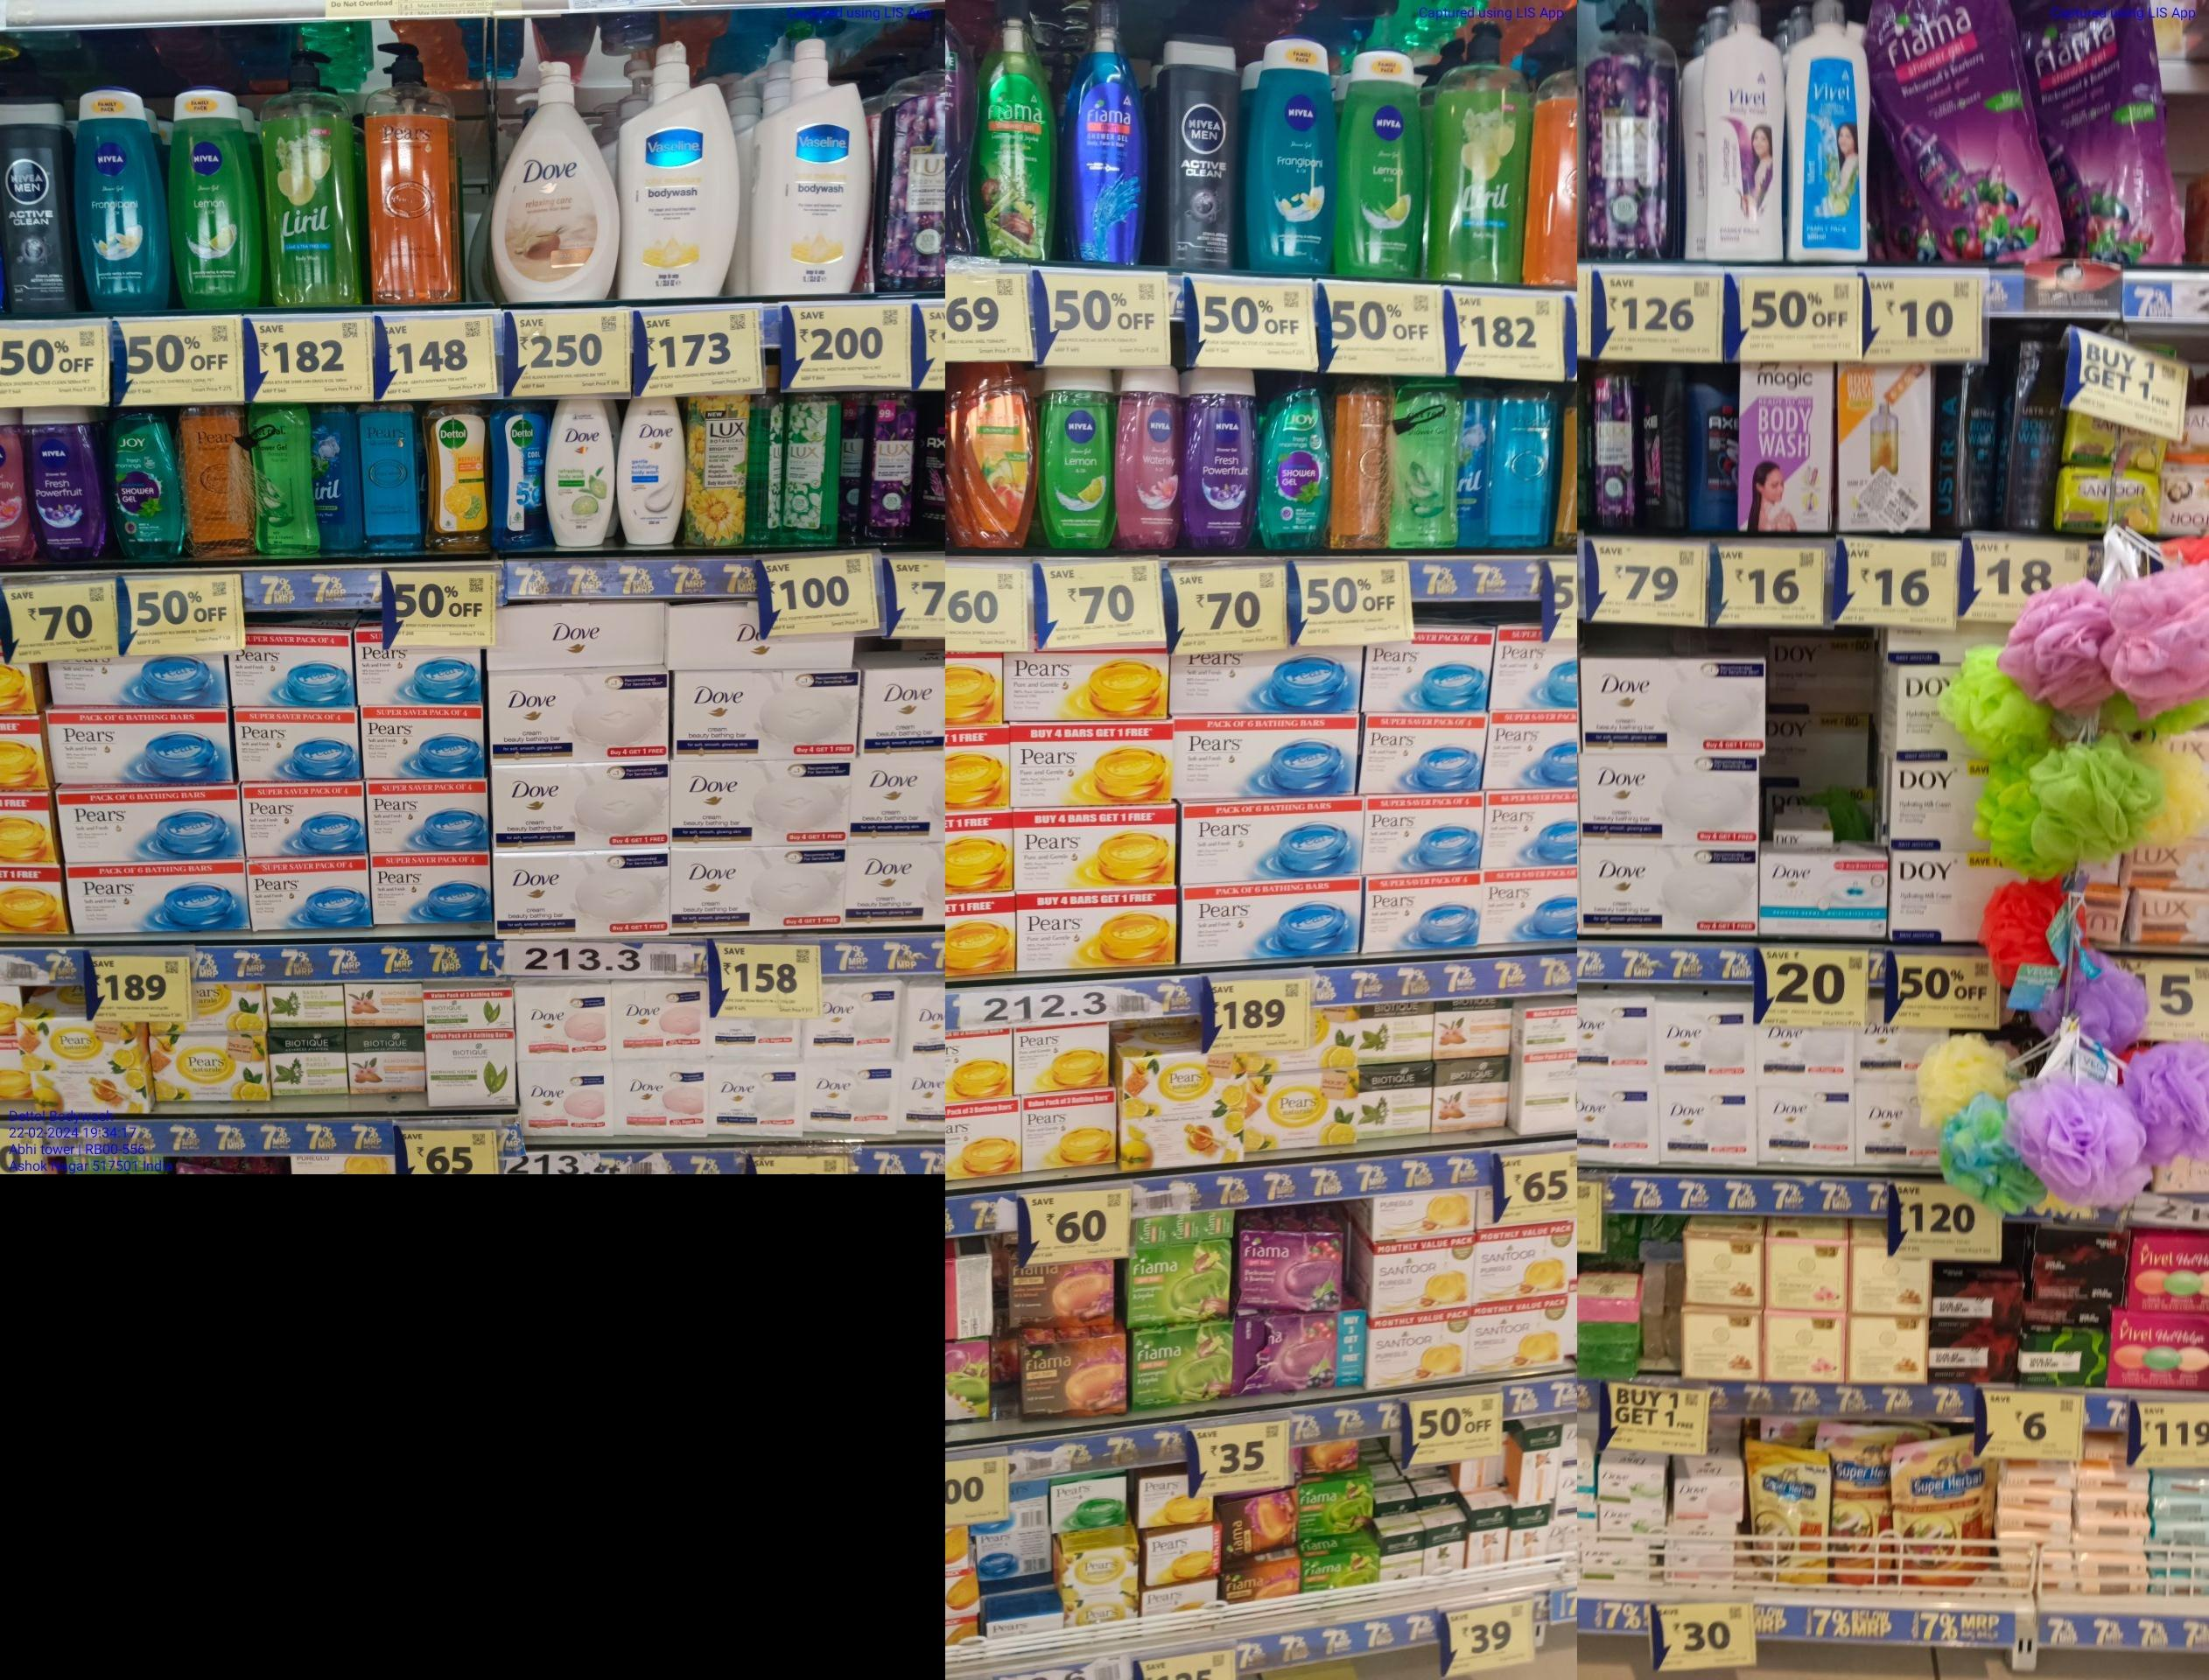Dettol_Bodywash_Cool: (492, 397, 542, 547)
Dettol_Bodywash_Refresh: (425, 399, 492, 549)
Dove_Gentle_Exfoliating_Body_Wash_250ML: (616, 392, 683, 549)
Dove_Refreshing_Body_Wash_250ML: (549, 392, 609, 545)
Fiama_Shower_Gel_Peach_and_Avocado_250ML: (962, 364, 1030, 552)
Joy_Shower_Gel_Mint_and_Eucalyptus_250ML: (1258, 362, 1329, 551), (115, 409, 182, 559)
Lux_Black_Orchid_Scent_and_Juniper_Oil_Body_Wash_245ML: (865, 392, 919, 545)
Lux_Body_Wash_Skin_Detox_Freesia_Scent_and_Alove_Vera_245ML: (778, 388, 835, 544)
Nivea_Shower_Gel_Frangipani_and_Oil_250ML: (1244, 35, 1332, 275), (81, 86, 169, 312)
Nivea_Shower_Gel_Fresh_Powerfruit_250ML: (1187, 362, 1256, 558), (25, 397, 97, 558)
Nivea_Shower_Gel_Lemon_and_Oil_250ML: (1332, 41, 1415, 282), (175, 90, 258, 309), (1041, 362, 1113, 552)
Nivea_Shower_Gel_Waterlily_and_Oil_250ML: (1115, 367, 1180, 554)
